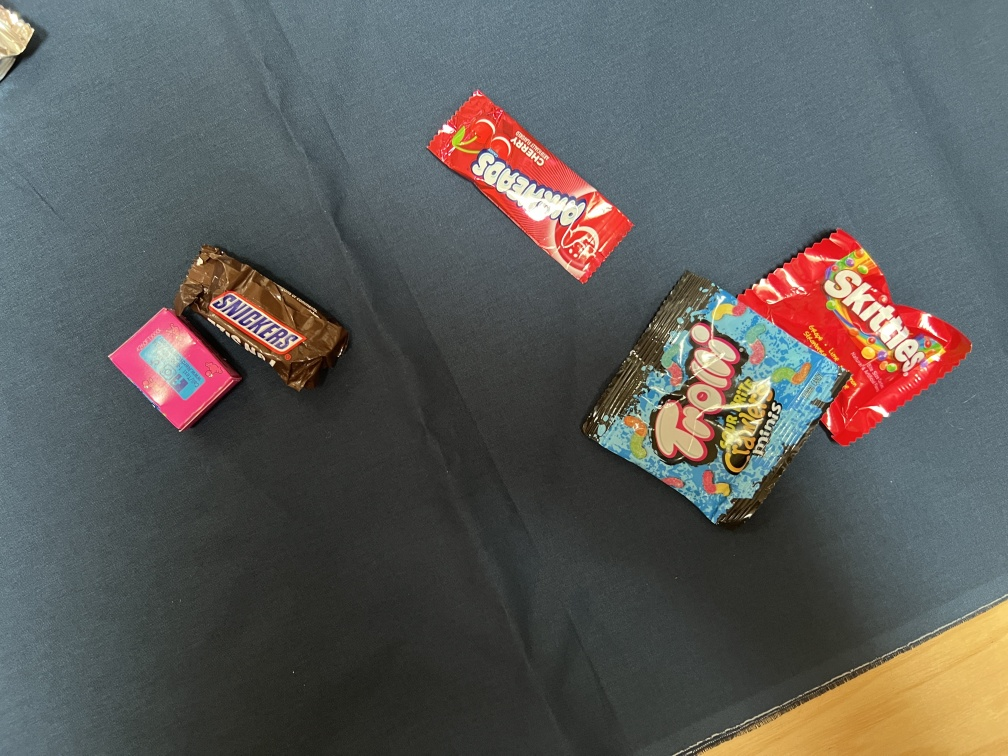airheads: (412, 68, 643, 296)
gummy_worms: (594, 273, 840, 545)
nerds: (85, 313, 240, 439)
skittles: (741, 226, 997, 449)
snickers: (167, 238, 357, 383)
